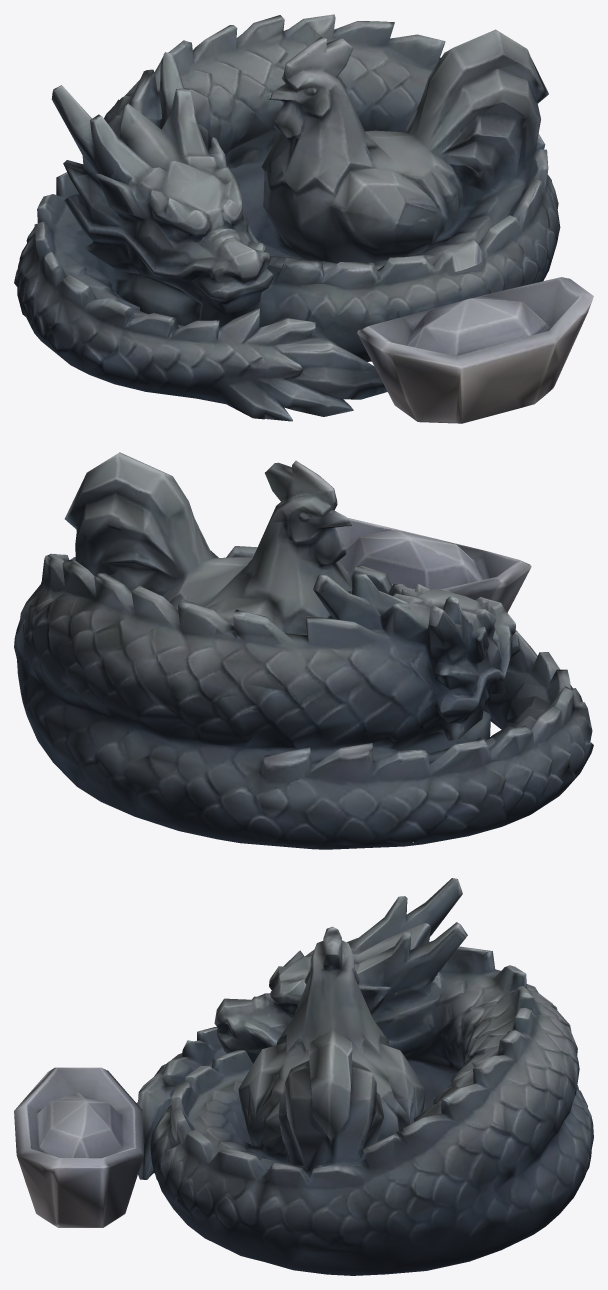
Rendered from he_chen_you.glb.
3 views of the same model, one above another, from view 1: azimuth 30°, elevation 25°; view 2: azimuth 150°, elevation 25°; view 3: azimuth 270°, elevation 25° (orthographic). The views are drawn at different scales.
Parts seen in each view (by area): view 1: tripo_node_59fb318f-f3e3-429f-84d2-2e3fc8ada719; view 2: tripo_node_59fb318f-f3e3-429f-84d2-2e3fc8ada719; view 3: tripo_node_59fb318f-f3e3-429f-84d2-2e3fc8ada719.
Part boxes in pixels (x1,y1,x2,y2): tripo_node_59fb318f-f3e3-429f-84d2-2e3fc8ada719: (14,14,593,423); tripo_node_59fb318f-f3e3-429f-84d2-2e3fc8ada719: (14,452,593,849); tripo_node_59fb318f-f3e3-429f-84d2-2e3fc8ada719: (14,878,593,1275).
Size of the model in its own units: 0.9561 by 0.4975 by 0.9993.
1 material, 1 textured.
